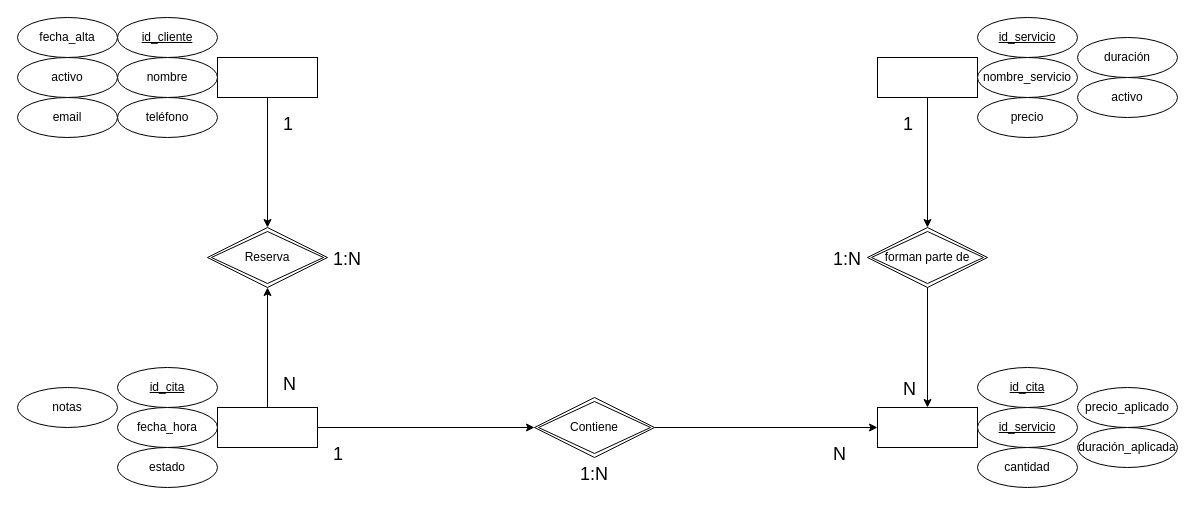
This 1195x508 diagram has some shape labels left out. The box of each missing label's shape, as (x1, y1, x2, y2) in pixels:
CITA_SERVICIO: (876, 406, 978, 448)
CITAS: (216, 406, 318, 448)
CLIENTES: (216, 56, 318, 98)
SERVICIOS: (876, 56, 978, 98)
